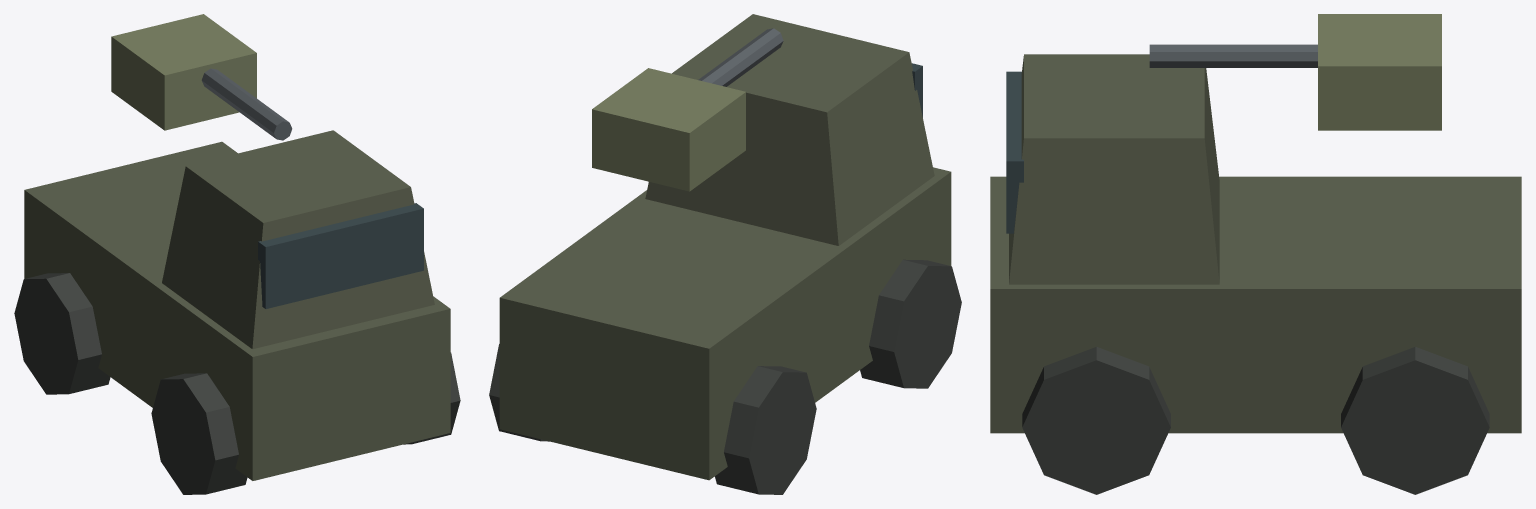
The model's file is wm_party_trust.glb.
3 renders of one model, left to right at view 1: azimuth 30°, elevation 25°; view 2: azimuth 150°, elevation 25°; view 3: azimuth 270°, elevation 25°, orthographic. The views are drawn at different scales.
Visible parts, largest first — view 1: hull, cab, turret, glass, wheel2, wheel0, gun, wheel1; view 2: hull, cab, turret, wheel0, wheel2, gun, wheel3; view 3: hull, cab, wheel1, wheel3, turret, gun, glass.
Boxes of the visible parts, box(x1,y1,x2,y2) form: hull: box(24, 141, 450, 480); cab: box(162, 130, 434, 349); turret: box(111, 14, 256, 130); glass: box(258, 203, 423, 308); wheel2: box(14, 273, 110, 394); wheel0: box(151, 373, 247, 494); gun: box(201, 68, 292, 140); wheel1: box(403, 352, 460, 444); hull: box(499, 167, 951, 480); cab: box(645, 14, 934, 245); turret: box(592, 68, 745, 191); wheel0: box(860, 259, 961, 388); wheel2: box(715, 366, 816, 494); gun: box(698, 28, 783, 86); wheel3: box(489, 344, 549, 441); hull: box(990, 176, 1521, 433); cab: box(1009, 54, 1219, 284); wheel1: box(1022, 346, 1170, 494); wheel3: box(1341, 346, 1489, 494); turret: box(1318, 14, 1441, 130); gun: box(1149, 44, 1317, 67); glass: box(1006, 71, 1023, 233).
Size of the model in its own units: 1.86 by 2.4 by 3.
